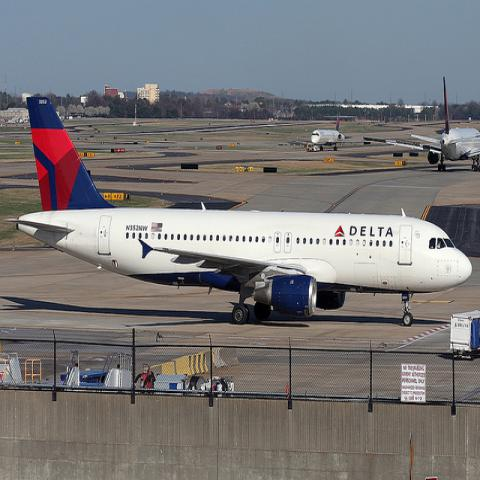truck: (450, 308, 479, 360)
